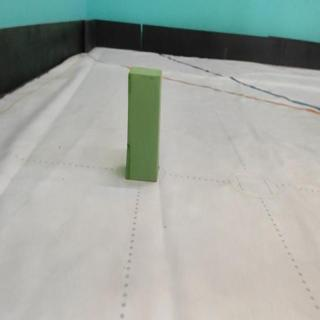greenbox: (127, 65, 164, 182)
